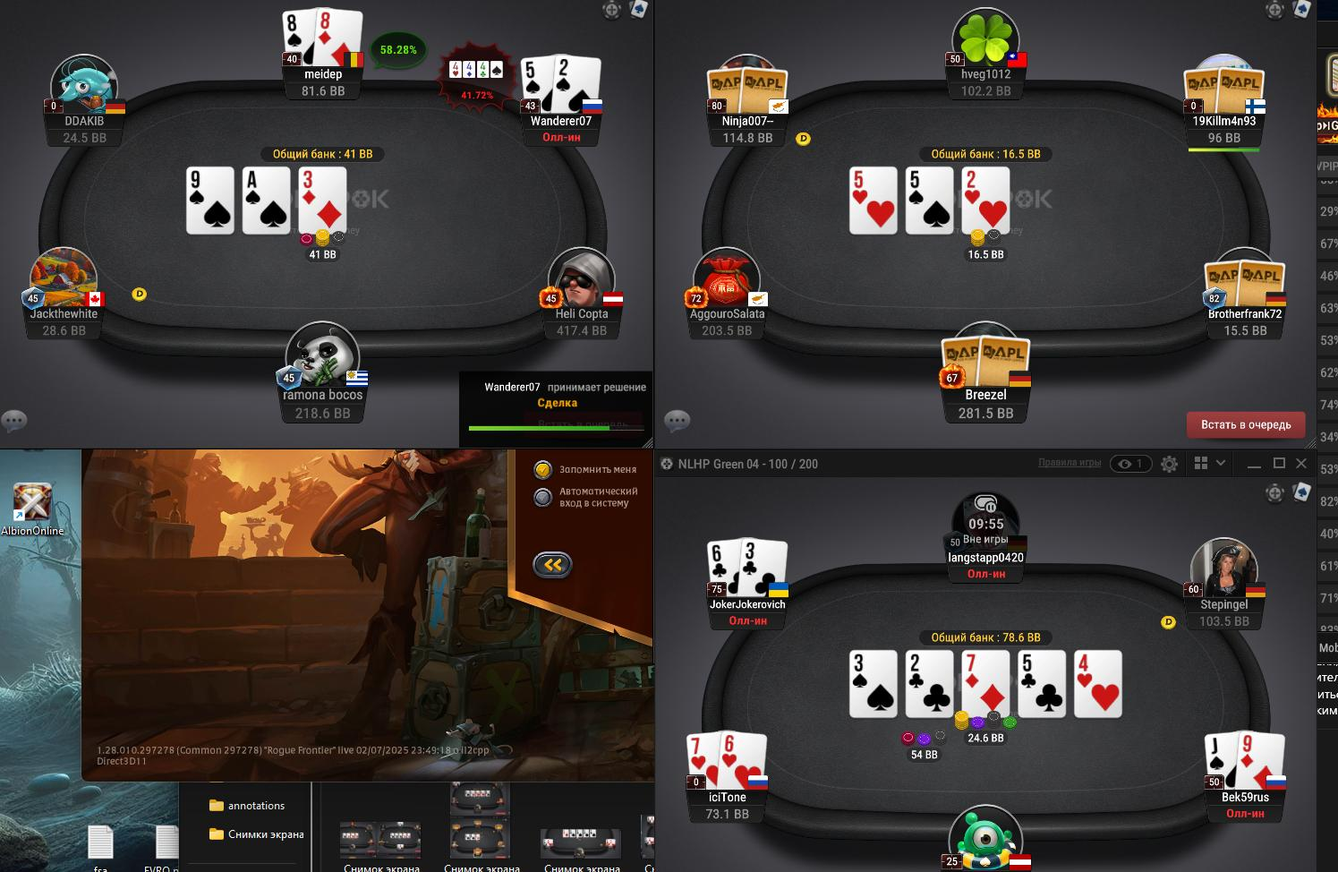2c: (906, 649, 953, 717)
2h: (961, 166, 1010, 236)
2s: (553, 51, 604, 114)
3c: (739, 536, 788, 600)
3d: (297, 165, 348, 238)
3s: (848, 649, 896, 716)
4h: (1072, 651, 1122, 718)
5c: (1018, 649, 1066, 718)
5h: (848, 166, 895, 233)
5s: (904, 166, 951, 234), (520, 55, 556, 116)
6c: (705, 538, 743, 600)
6h: (719, 727, 768, 791)
7d: (961, 649, 1010, 718)
7h: (685, 730, 721, 789)
8d: (315, 6, 364, 70)
8s: (280, 9, 318, 68)
9d: (1236, 727, 1287, 791)
9s: (186, 166, 235, 234)
As: (241, 165, 291, 235)
Js: (1203, 733, 1240, 790)
